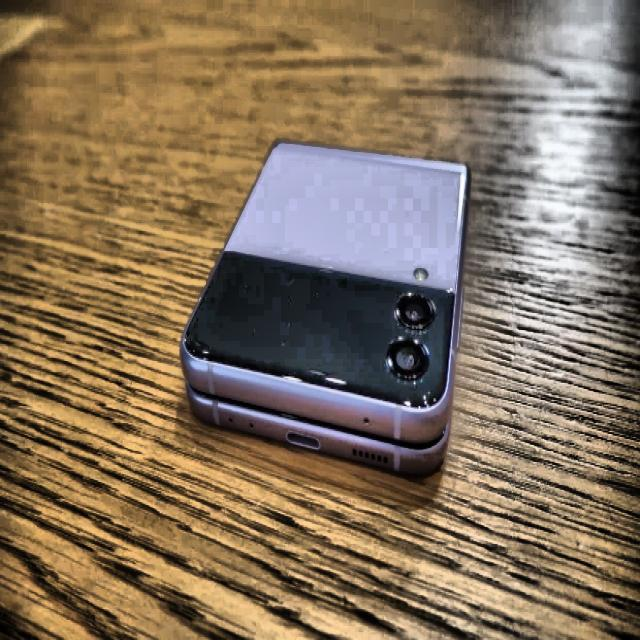Phone: (182, 135, 471, 489)
